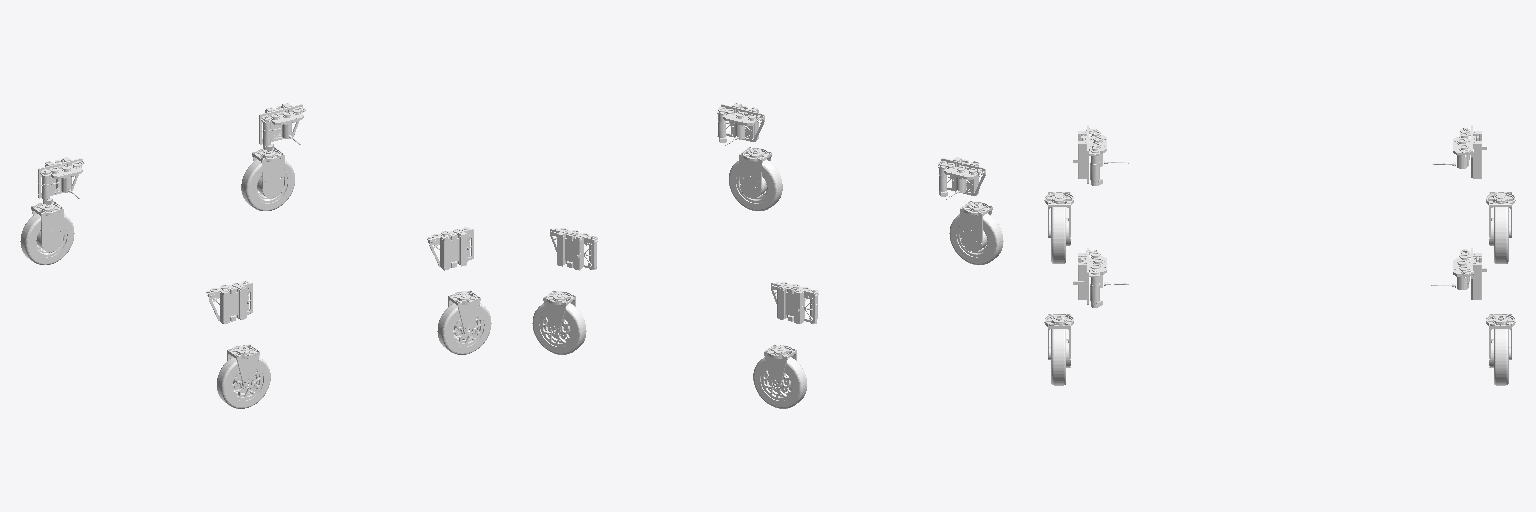
The robot description file, URDF, robot "robot_urdf":
<?xml version="1.0" encoding="utf-8"?>
<!-- This URDF was automatically created by SolidWorks to URDF Exporter! Originally created by [author] ([email redacted]) 
     Commit Version: 1.6.0-4-g7f85cfe  Build Version: 1.6.7995.38578
     For more information, please see http://wiki.ros.org/sw_urdf_exporter -->
<robot
  name="robot_urdf">

 
  <link
    name="base_link">
    <inertial>
      <origin
        xyz="-9.6541E-10 8.7142E-08 -0.82799"
        rpy="0 0 0" />
      <mass
        value="15.729" />
      <inertia
        ixx="0.5433"
        ixy="-3.1011E-06"
        ixz="-6.4506E-13"
        iyy="0.44995"
        iyz="8.0282E-08"
        izz="0.15116" />
    </inertial>
    <visual>
      <origin
        xyz="0 0 0"
        rpy="0 0 0" />
      <geometry>
        <mesh
          filename="package://robot_urdf/meshes/base_link.STL" />
      </geometry>
      <material
        name="LightGrey">
        <color
          rgba="1 1 1 1" />
      </material>
    </visual>
    <collision>
      <origin
        xyz="0 0 0"
        rpy="0 0 0" />
      <geometry>
        <mesh
          filename="package://robot_urdf/meshes/base_link.STL" />
      </geometry>
    </collision>
  </link>


  <link
    name="link_lf">
    <inertial>
      <origin
        xyz="8.86524847416581E-05 -0.00752803670989477 -0.108847599255012"
        rpy="0 0 0" />
      <mass
        value="0.574731666133538" />
      <inertia
        ixx="0.00104182651855022"
        ixy="2.48297912578613E-07"
        ixz="-3.04635363260097E-06"
        iyy="0.00113854145712242"
        iyz="-9.99169255105371E-05"
        izz="0.000698916507020147" />
    </inertial>
    <visual>
      <origin
        xyz="0 0 0"
        rpy="0 0 0" />
      <geometry>
        <mesh
          filename="package://robot_urdf/meshes/link_lf.STL" />
      </geometry>
      <material
        name="Blue">
        <color
          rgba="1 1 1 1" />
      </material>
    </visual>
    <collision>
      <origin
        xyz="0 0 0"
        rpy="0 0 0" />
      <geometry>
        <mesh
          filename="package://robot_urdf/meshes/link_lf.STL" />
      </geometry>
    </collision>
  </link>
  <joint
    name="joint_steer_lf"
    type="continuous">
    <origin
      xyz="0.527 0.80988 -1.2798"
      rpy="0 0 0" />
    <parent
      link="base_link" />
    <child
      link="link_lf" />
    <axis
      xyz="0 0 1" />
    <limit
      lower="-3.14"
      upper="3.14"
      effort="100"
      velocity="1" />
  </joint>
  <link
    name="link_lf_low">
    <inertial>
      <origin
        xyz="-5.05659556684357E-05 -0.0119103704603647 -1.34934649362872E-05"
        rpy="0 0 0" />
      <mass
        value="1.51444384571626" />
      <inertia
        ixx="0.00720805455512712"
        ixy="-2.57180100171516E-07"
        ixz="1.28054493951554E-06"
        iyy="0.0136843200341628"
        iyz="-6.88384179278734E-08"
        izz="0.00720361780495676" />
    </inertial>
    <visual>
      <origin
        xyz="0 0 0"
        rpy="0 0 0" />
      <geometry>
        <mesh
          filename="package://robot_urdf/meshes/link_lf_low.STL" />
      </geometry>
      <material
        name="Orange">
        <color
          rgba="1 1 1 1" />
      </material>
    </visual>
    <collision>
      <origin
        xyz="0 0 0"
        rpy="0 0 0" />
      <geometry>
        <mesh
          filename="package://robot_urdf/meshes/link_lf_low.STL" />
      </geometry>
    </collision>
  </link>
  <joint
    name="joint_roll_lf"
    type="continuous">
    <origin
      xyz="0 0.0139998933717689 -0.138000010817314"
      rpy="0 0 0" />
    <parent
      link="link_lf" />
    <child
      link="link_lf_low" />
    <axis
      xyz="0 0.999999999999701 0" />
    <limit
      lower="-3.14"
      upper="3.14"
      effort="100"
      velocity="1" />
  </joint>
  <link
    name="link_rf">
    <inertial>
      <origin
        xyz="-8.86524847354409E-05 0.00753017187580984 -0.108848887372692"
        rpy="0 0 0" />
      <mass
        value="0.574731666131464" />
      <inertia
        ixx="0.00104182651855003"
        ixy="2.48295558717129E-07"
        ixz="3.04635382439577E-06"
        iyy="0.00113854130271696"
        iyz="9.99172651942668E-05"
        izz="0.000698916661425254" />
    </inertial>
    <visual>
      <origin
        xyz="0 0 0"
        rpy="0 0 0" />
      <geometry>
        <mesh
          filename="package://robot_urdf/meshes/link_rf.STL" />
      </geometry>
      <material
        name="Blue">
        <color
          rgba="1 1 1 1" />
      </material>
    </visual>
    <collision>
      <origin
        xyz="0 0 0"
        rpy="0 0 0" />
      <geometry>
        <mesh
          filename="package://robot_urdf/meshes/link_rf.STL" />
      </geometry>
    </collision>
  </link>
  <joint
    name="joint_steer_rf"
    type="continuous">
    <origin
      xyz="0.527 -0.80988 -1.2798"
      rpy="0 0 0" />
    <parent
      link="base_link" />
    <child
      link="link_rf" />
    <axis
      xyz="0 0 1" />
    <limit
      lower="-3.14"
      upper="3.14"
      effort="100"
      velocity="1" />
  </joint>
  <link
    name="link_rf_low">
    <inertial>
      <origin
        xyz="5.05659556626625E-05 0.0119111607870451 -1.36671004951072E-05"
        rpy="0 0 0" />
      <mass
        value="1.51444384571626" />
      <inertia
        ixx="0.00720805455512713"
        ixy="-2.57179110734844E-07"
        ixz="-1.28054513822929E-06"
        iyy="0.0136843200340526"
        iyz="7.38458512020508E-08"
        izz="0.00720361780506701" />
    </inertial>
    <visual>
      <origin
        xyz="0 0 0"
        rpy="0 0 0" />
      <geometry>
        <mesh
          filename="package://robot_urdf/meshes/link_rf_low.STL" />
      </geometry>
      <material
        name="Orange">
        <color
          rgba="1 1 1 1" />
      </material>
    </visual>
    <collision>
      <origin
        xyz="0 0 0"
        rpy="0 0 0" />
      <geometry>
        <mesh
          filename="package://robot_urdf/meshes/link_rf_low.STL" />
      </geometry>
    </collision>
  </link>
  <joint
    name="joint_roll_rf"
    type="continuous">
    <origin
      xyz="0 -0.0139985259969949 -0.138001132730464"
      rpy="0 0 0" />
    <parent
      link="link_rf" />
    <child
      link="link_rf_low" />
    <axis
      xyz="0 -0.999999999999701 0" />
    <limit
      lower="-3.14"
      upper="3.14"
      effort="100"
      velocity="1" />
  </joint>
  <link
    name="link_lb">
    <inertial>
      <origin
        xyz="8.86524847424353E-05 -0.00752948818880272 -0.108847635839087"
        rpy="0 0 0" />
      <mass
        value="0.574731666131463" />
      <inertia
        ixx="0.00104182651855002"
        ixy="2.48295558716922E-07"
        ixz="-3.04635382439624E-06"
        iyy="0.00113854130271694"
        iyz="-9.99172651942643E-05"
        izz="0.000698916661425248" />
    </inertial>
    <visual>
      <origin
        xyz="0 0 0"
        rpy="0 0 0" />
      <geometry>
        <mesh
          filename="package://robot_urdf/meshes/link_lb.STL" />
      </geometry>
      <material
        name="Blue">
        <color
          rgba="1 1 1 1" />
      </material>
    </visual>
    <collision>
      <origin
        xyz="0 0 0"
        rpy="0 0 0" />
      <geometry>
        <mesh
          filename="package://robot_urdf/meshes/link_lb.STL" />
      </geometry>
    </collision>
  </link>
  <joint
    name="joint_steer_lb"
    type="continuous">
    <origin
      xyz="-0.527 0.80988 -1.2798"
      rpy="0 0 0" />
    <parent
      link="base_link" />
    <child
      link="link_lb" />
    <axis
      xyz="0 0 1" />
    <limit
      lower="-3.14"
      upper="3.14"
      effort="100"
      velocity="1" />
  </joint>
  <link
    name="link_lb_low">
    <inertial>
      <origin
        xyz="-5.05659556653271E-05 -0.0119111607869915 -1.35907001950208E-05"
        rpy="0 0 0" />
      <mass
        value="1.51444384571626" />
      <inertia
        ixx="0.00720805455512713"
        ixy="-2.57179110738745E-07"
        ixz="1.28054513823009E-06"
        iyy="0.0136843200340526"
        iyz="-7.38458511707389E-08"
        izz="0.00720361780506701" />
    </inertial>
    <visual>
      <origin
        xyz="0 0 0"
        rpy="0 0 0" />
      <geometry>
        <mesh
          filename="package://robot_urdf/meshes/link_lb_low.STL" />
      </geometry>
      <material
        name="Orange">
        <color
          rgba="1 1 1 1" />
      </material>
    </visual>
    <collision>
      <origin
        xyz="0 0 0"
        rpy="0 0 0" />
      <geometry>
        <mesh
          filename="package://robot_urdf/meshes/link_lb_low.STL" />
      </geometry>
    </collision>
  </link>
  <joint
    name="joint_roll_lb"
    type="continuous">
    <origin
      xyz="0 0.0139992096839484 -0.137999957597159"
      rpy="0 0 0" />
    <parent
      link="link_lb" />
    <child
      link="link_lb_low" />
    <axis
      xyz="0 1 0" />
    <limit
      lower="-3.14"
      upper="3.14"
      effort="100"
      velocity="1" />
  </joint>
  <link
    name="link_rb">
    <inertial>
      <origin
        xyz="-8.865248474621E-05 0.00752880449997484 -0.108848887371632"
        rpy="0 0 0" />
      <mass
        value="0.574731666131464" />
      <inertia
        ixx="0.00104182651855003"
        ixy="2.48295558718291E-07"
        ixz="3.04635382439423E-06"
        iyy="0.00113854130271695"
        iyz="9.99172651942719E-05"
        izz="0.000698916661425252" />
    </inertial>
    <visual>
      <origin
        xyz="0 0 0"
        rpy="0 0 0" />
      <geometry>
        <mesh
          filename="package://robot_urdf/meshes/link_rb.STL" />
      </geometry>
      <material
        name="Blue">
        <color
          rgba="1 1 1 1" />
      </material>
    </visual>
    <collision>
      <origin
        xyz="0 0 0"
        rpy="0 0 0" />
      <geometry>
        <mesh
          filename="package://robot_urdf/meshes/link_rb.STL" />
      </geometry>
    </collision>
  </link>
  <joint
    name="joint_steer_rb"
    type="continuous">
    <origin
      xyz="-0.527 -0.80988 -1.2798"
      rpy="0 0 0" />
    <parent
      link="base_link" />
    <child
      link="link_rb" />
    <axis
      xyz="0 0 1" />
    <limit
      lower="-3.14"
      upper="3.14"
      effort="100"
      velocity="1" />
  </joint>
  <link
    name="link_rb_low">
    <inertial>
      <origin
        xyz="5.05659556678806E-05 0.0119111607869505 -1.35374805847466E-05"
        rpy="0 0 0" />
      <mass
        value="1.51444384571626" />
      <inertia
        ixx="0.00720805455512713"
        ixy="-2.57179110735164E-07"
        ixz="-1.28054513822985E-06"
        iyy="0.0136843200340526"
        iyz="7.38458512236012E-08"
        izz="0.00720361780506701" />
    </inertial>
    <visual>
      <origin
        xyz="0 0 0"
        rpy="0 0 0" />
      <geometry>
        <mesh
          filename="package://robot_urdf/meshes/link_rb_low.STL" />
      </geometry>
      <material
        name="Orange">
        <color
          rgba="1 1 1 1" />
      </material>
    </visual>
    <collision>
      <origin
        xyz="0 0 0"
        rpy="0 0 0" />
      <geometry>
        <mesh
          filename="package://robot_urdf/meshes/link_rb_low.STL" />
      </geometry>
    </collision>
  </link>
  <joint
    name="joint_roll_rb"
    type="continuous">
    <origin
      xyz="0 -0.0139998933727349 -0.138001262349316"
      rpy="0 0 0" />
    <parent
      link="link_rb" />
    <child
      link="link_rb_low" />
    <axis
      xyz="0 -0.999999999999702 0" />
    <limit
      lower="-3.14"
      upper="3.14"
      effort="100"
      velocity="1" />
  </joint>
  <link
    name="anchor_lf">
    <inertial>
      <origin
        xyz="-0.010935 -0.010262 0.0051064"
        rpy="0 0 0" />
      <mass
        value="0.83913" />
      <inertia
        ixx="0.0011132"
        ixy="1.574E-06"
        ixz="-1.7731E-05"
        iyy="0.0020509"
        iyz="-9.5617E-06"
        izz="0.0011227" />
    </inertial>
    <visual>
      <origin
        xyz="0 0 0"
        rpy="0 0 0" />
      <geometry>
        <mesh
          filename="package://robot_urdf/meshes/anchor_lf.STL" />
      </geometry>
      <material
        name="Green">
        <color
          rgba="1 1 1 1" />
      </material>
    </visual>
    <collision>
      <origin
        xyz="0 0 0"
        rpy="0 0 0" />
      <geometry>
        <mesh
          filename="package://robot_urdf/meshes/anchor_lf.STL" />
      </geometry>
    </collision>
  </link>
  <joint
    name="joint_prism_lf"
    type="prismatic">
    <origin
      xyz="0.527 0.70838 -1.106"
      rpy="0 0 0" />
    <parent
      link="base_link" />
    <child
      link="anchor_lf" />
    <axis
      xyz="0 0 -1" />
    <limit
      lower="-0.61"
      upper="0"
      effort="100"
      velocity="0.3" />
  </joint>
  <link
    name="anchor_rf">
    <inertial>
      <origin
        xyz="0.010935 0.010262 0.0051064"
        rpy="0 0 0" />
      <mass
        value="0.83913" />
      <inertia
        ixx="0.0011132"
        ixy="1.574E-06"
        ixz="1.7731E-05"
        iyy="0.0020509"
        iyz="9.5624E-06"
        izz="0.0011227" />
    </inertial>
    <visual>
      <origin
        xyz="0 0 0"
        rpy="0 0 0" />
      <geometry>
        <mesh
          filename="package://robot_urdf/meshes/anchor_rf.STL" />
      </geometry>
      <material
        name="Green">
        <color
          rgba="1 1 1 1" />
      </material>
    </visual>
    <collision>
      <origin
        xyz="0 0 0"
        rpy="0 0 0" />
      <geometry>
        <mesh
          filename="package://robot_urdf/meshes/anchor_rf.STL" />
      </geometry>
    </collision>
  </link>
  <joint
    name="joint_prism_rf"
    type="prismatic">
    <origin
      xyz="0.527 -0.70838 -1.106"
      rpy="0 0 0" />
    <parent
      link="base_link" />
    <child
      link="anchor_rf" />
    <axis
      xyz="0 0 -1" />
    <limit
      lower="-0.61"
      upper="0"
      effort="100"
      velocity="0.3" />
  </joint>
  <link
    name="anchor_lb">
    <inertial>
      <origin
        xyz="-0.010935 -0.010262 0.0051064"
        rpy="0 0 0" />
      <mass
        value="0.83913" />
      <inertia
        ixx="0.0011132"
        ixy="1.574E-06"
        ixz="-1.7731E-05"
        iyy="0.0020509"
        iyz="-9.5624E-06"
        izz="0.0011227" />
    </inertial>
    <visual>
      <origin
        xyz="0 0 0"
        rpy="0 0 0" />
      <geometry>
        <mesh
          filename="package://robot_urdf/meshes/anchor_lb.STL" />
      </geometry>
      <material
        name="Green">
        <color
          rgba="1 1 1 1" />
      </material>
    </visual>
    <collision>
      <origin
        xyz="0 0 0"
        rpy="0 0 0" />
      <geometry>
        <mesh
          filename="package://robot_urdf/meshes/anchor_lb.STL" />
      </geometry>
    </collision>
  </link>
  <joint
    name="joint_prism_lb"
    type="prismatic">
    <origin
      xyz="-0.527 0.70838 -1.106"
      rpy="0 0 0" />
    <parent
      link="base_link" />
    <child
      link="anchor_lb" />
    <axis
      xyz="0 0 -1" />
    <limit
      lower="-0.61"
      upper="0"
      effort="100"
      velocity="0.3" />
  </joint>
  <link
    name="anchor_rb">
    <inertial>
      <origin
        xyz="0.010935 0.010262 0.0051064"
        rpy="0 0 0" />
      <mass
        value="0.83913" />
      <inertia
        ixx="0.0011132"
        ixy="1.574E-06"
        ixz="1.7731E-05"
        iyy="0.0020509"
        iyz="9.5624E-06"
        izz="0.0011227" />
    </inertial>
    <visual>
      <origin
        xyz="0 0 0"
        rpy="0 0 0" />
      <geometry>
        <mesh
          filename="package://robot_urdf/meshes/anchor_rb.STL" />
      </geometry>
      <material
        name="Green">
        <color
          rgba="1 1 1 1" />
      </material>
    </visual>
    <collision>
      <origin
        xyz="0 0 0"
        rpy="0 0 0" />
      <geometry>
        <mesh
          filename="package://robot_urdf/meshes/anchor_rb.STL" />
      </geometry>
    </collision>
  </link>
  <joint
    name="joint_prism_rb"
    type="prismatic">
    <origin
      xyz="-0.527 -0.70838 -1.106"
      rpy="0 0 0" />
    <parent
      link="base_link" />
    <child
      link="anchor_rb" />
    <axis
      xyz="0 0 -1" />
    <limit
      lower="-0.61"
      upper="0"
      effort="100"
      velocity="0.3" />
  </joint>
</robot>

--- Facts derived from the render (not from the file) ---
The picture shows the robot from 3 angles, left to right: view 1: azimuth 30°, elevation 25°; view 2: azimuth 150°, elevation 25°; view 3: azimuth 270°, elevation 25°; orthographic projection.
Robot: robot_urdf — 13 links, 12 joints (8 continuous, 4 prismatic); root link base_link; default pose: every joint at zero.
Links seen in each view (by area): view 1: link_rb_low, link_rf_low, anchor_lb, anchor_lf, anchor_rf, anchor_rb, link_lf_low, link_lb_low, link_lb, link_lf, link_rb, link_rf; view 2: link_lb_low, link_lf_low, anchor_lb, anchor_lf, anchor_rf, anchor_rb, link_rf_low, link_rb_low, link_rb, link_rf, link_lb, link_lf; view 3: anchor_rf, anchor_rb, anchor_lb, anchor_lf, link_lb_low, link_rb_low, link_lf_low, link_rf_low, link_lf, link_rf, link_lb, link_rb.
Boxes of the visible links, x1,y1,x2,y2 form: link_rb_low: [217, 357, 270, 408]; link_rf_low: [437, 303, 491, 354]; anchor_lb: [38, 157, 84, 204]; anchor_lf: [259, 103, 305, 150]; anchor_rf: [427, 227, 473, 270]; anchor_rb: [206, 281, 252, 323]; link_lf_low: [241, 158, 294, 210]; link_lb_low: [20, 213, 74, 264]; link_lb: [31, 201, 63, 252]; link_lf: [252, 147, 284, 198]; link_rb: [227, 344, 259, 392]; link_rf: [448, 290, 480, 339]; link_lb_low: [753, 357, 806, 408]; link_lf_low: [532, 303, 586, 354]; anchor_lb: [771, 282, 818, 323]; anchor_lf: [550, 228, 597, 270]; anchor_rf: [717, 103, 764, 145]; anchor_rb: [938, 157, 985, 199]; link_rf_low: [729, 159, 782, 210]; link_rb_low: [949, 213, 1003, 264]; link_rb: [960, 201, 992, 252]; link_rf: [739, 147, 771, 198]; link_lb: [764, 344, 796, 392]; link_lf: [543, 290, 575, 338]; anchor_rf: [1073, 248, 1128, 307]; anchor_rb: [1073, 126, 1128, 185]; anchor_lb: [1431, 126, 1486, 178]; anchor_lf: [1431, 248, 1486, 299]; link_lb_low: [1494, 207, 1508, 263]; link_rb_low: [1051, 207, 1065, 263]; link_lf_low: [1494, 329, 1508, 385]; link_rf_low: [1051, 329, 1065, 385]; link_lf: [1486, 314, 1515, 367]; link_rf: [1044, 314, 1073, 367]; link_lb: [1486, 192, 1515, 245]; link_rb: [1044, 192, 1073, 245].
Bounding box of the posed robot: 1.29 × 1.73 × 0.5023 m (x, y, z).
12 mesh visuals loaded from 13 distinct referenced files (12 binary STL); not drawn: 1 (reference not matched to a file when rendering).